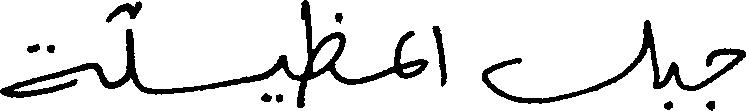X: (481, 15, 649, 108), (0, 39, 93, 102), (305, 0, 344, 93), (707, 43, 745, 110), (394, 26, 426, 83), (432, 21, 446, 91), (126, 0, 136, 91), (669, 57, 679, 110), (277, 50, 286, 107)
